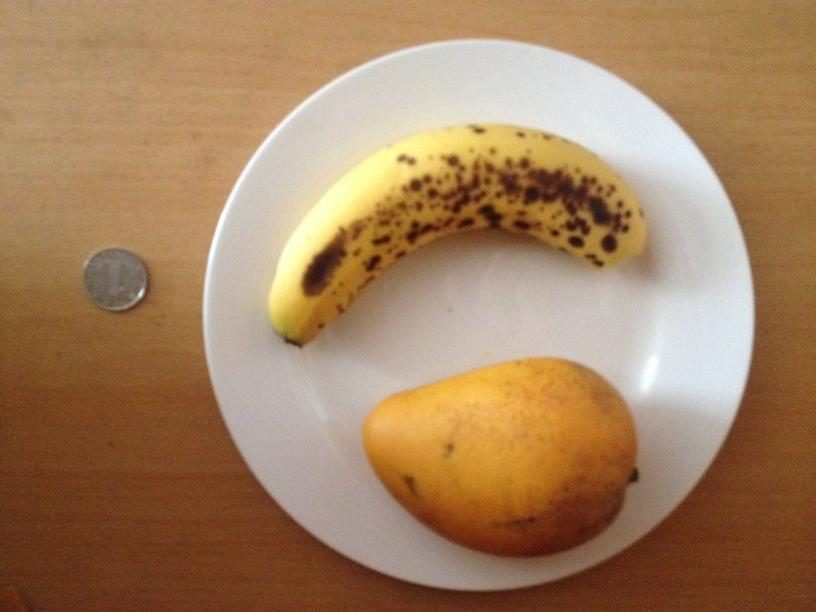banana: (273, 124, 648, 334)
coin: (78, 248, 148, 310)
mango: (364, 363, 635, 556)
